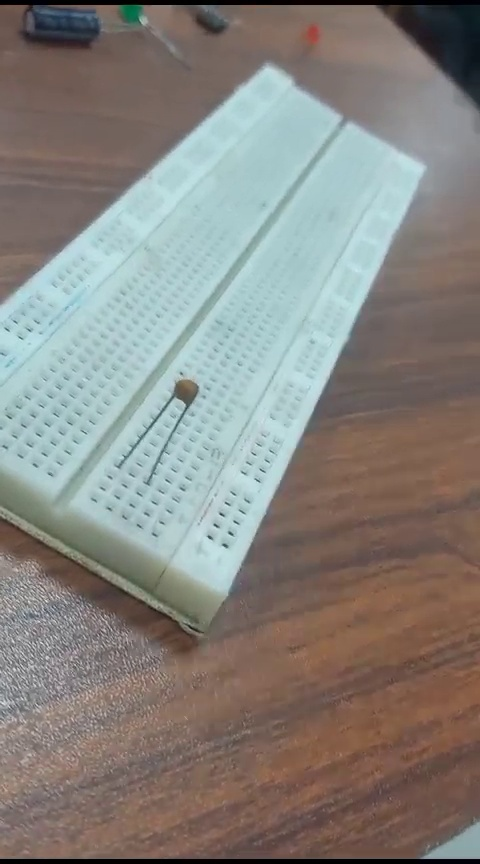ceramic capacitor: (114, 372, 204, 484)
